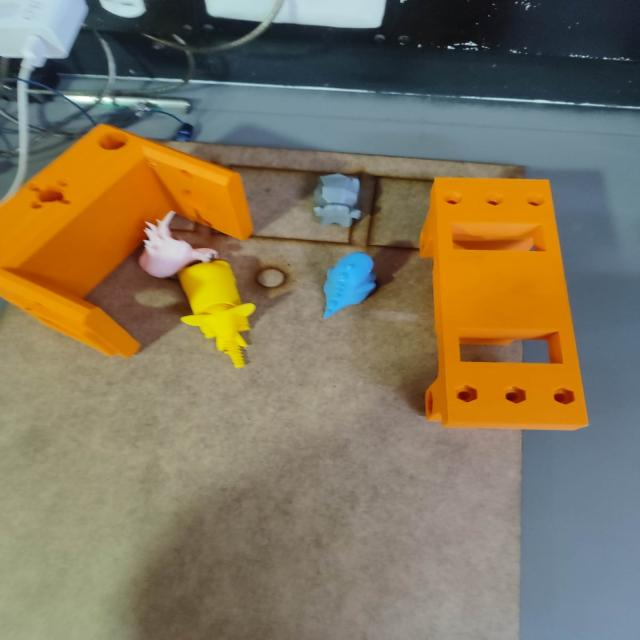DINO: (316, 247, 388, 320)
